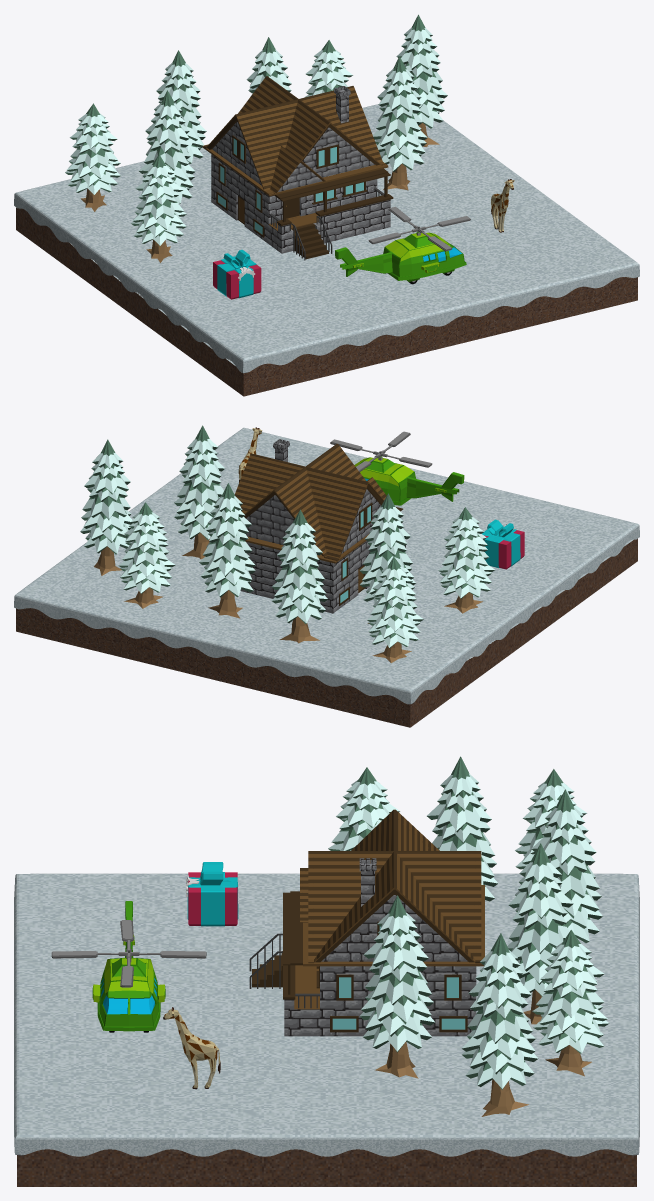
3 views of the same model, one above another, from view 1: azimuth 30°, elevation 25°; view 2: azimuth 150°, elevation 25°; view 3: azimuth 270°, elevation 25° (orthographic). The views are drawn at different scales.
Parts seen in each view (by area): view 1: Cube.003, Cube.586, VEHICLES_HELICOPTER, OBJRANDOM_GIANT_PRESENT, ANIMAL_JIRAFA; view 2: Cube.003, Cube.586, VEHICLES_HELICOPTER, OBJRANDOM_GIANT_PRESENT; view 3: Cube.003, Cube.586, VEHICLES_HELICOPTER, OBJRANDOM_GIANT_PRESENT, ANIMAL_JIRAFA.
Part boxes in pixels (x1=…): Cube.003: x1=14, y1=14, x2=639, y2=396; Cube.586: x1=202, y1=76, x2=393, y2=260; VEHICLES_HELICOPTER: x1=335, y1=206, x2=470, y2=284; OBJRANDOM_GIANT_PRESENT: x1=213, y1=249, x2=261, y2=299; ANIMAL_JIRAFA: x1=491, y1=179, x2=514, y2=232; Cube.003: x1=14, y1=425, x2=639, y2=727; Cube.586: x1=234, y1=439, x2=405, y2=613; VEHICLES_HELICOPTER: x1=330, y1=431, x2=464, y2=505; OBJRANDOM_GIANT_PRESENT: x1=482, y1=519, x2=524, y2=569; Cube.003: x1=14, y1=756, x2=639, y2=1186; Cube.586: x1=249, y1=809, x2=484, y2=1036; VEHICLES_HELICOPTER: x1=51, y1=901, x2=206, y2=1032; OBJRANDOM_GIANT_PRESENT: x1=186, y1=862, x2=238, y2=926; ANIMAL_JIRAFA: x1=163, y1=1007, x2=220, y2=1089.
Bounding box in the file's own units: 4040 × 1670 × 4040.
34 materials, 4 textured.
